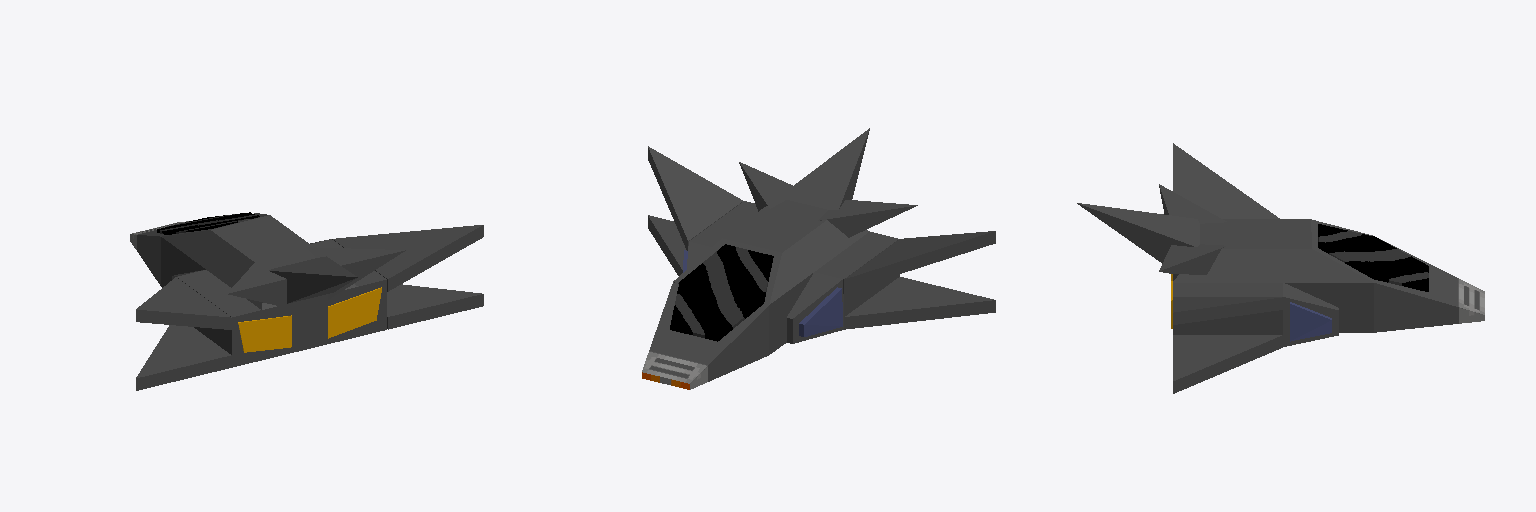
3 renders of one model, left to right at view 1: azimuth 30°, elevation 25°; view 2: azimuth 150°, elevation 25°; view 3: azimuth 270°, elevation 25°, orthographic.
Parts seen in each view (by area): view 1: основа-верх, крыло2-верхнее, основа, крыло1, крыло1-верхнее, предкрыльник1, крыло2, хвост, крыло-хвоста1, крыло-хвоста2, фара2, фара1 (+2 smaller); view 2: основа-верх, нос корабля, крыло1, крыло2-верхнее, крыло1-верхнее, стекло1, стекло2, хвост, предкрыльник1, крыло-хвоста1, часть предкрыльника1, часть части предкрыльника1 (+4 smaller); view 3: основа-верх, нос корабля, крыло2, предкрыльник2, крыло1-верхнее, хвост, основа, крыло2-верхнее, стекло1, стекло2, крыло-хвоста2, часть предкрыльника2 (+2 smaller).
Part boxes in pixels (bbox=[...]): основа-верх: bbox=[162, 213, 357, 309]; крыло2-верхнее: bbox=[332, 225, 483, 291]; основа: bbox=[161, 213, 357, 359]; крыло1: bbox=[136, 325, 231, 390]; крыло1-верхнее: bbox=[136, 277, 231, 329]; предкрыльник1: bbox=[177, 270, 261, 367]; крыло2: bbox=[387, 284, 483, 329]; хвост: bbox=[269, 256, 357, 303]; крыло-хвоста1: bbox=[227, 259, 291, 308]; крыло-хвоста2: bbox=[306, 247, 405, 299]; фара2: bbox=[328, 287, 381, 338]; фара1: bbox=[238, 315, 291, 352]; основа-верх: bbox=[673, 200, 869, 304]; нос корабля: bbox=[642, 282, 768, 389]; крыло1: bbox=[844, 277, 995, 329]; крыло2-верхнее: bbox=[648, 146, 742, 250]; крыло1-верхнее: bbox=[844, 231, 995, 291]; стекло1: bbox=[670, 281, 763, 341]; стекло2: bbox=[681, 244, 773, 302]; хвост: bbox=[780, 128, 869, 209]; предкрыльник1: bbox=[815, 232, 899, 316]; крыло-хвоста1: bbox=[818, 200, 917, 237]; часть предкрыльника1: bbox=[787, 272, 843, 343]; часть части предкрыльника1: bbox=[799, 287, 842, 336]; основа-верх: bbox=[1173, 219, 1373, 282]; нос корабля: bbox=[1374, 239, 1484, 332]; крыло2: bbox=[1173, 335, 1282, 393]; предкрыльник2: bbox=[1173, 283, 1282, 334]; крыло1-верхнее: bbox=[1173, 143, 1279, 218]; хвост: bbox=[1077, 203, 1199, 263]; основа: bbox=[1285, 283, 1373, 332]; крыло2-верхнее: bbox=[1173, 297, 1282, 324]; стекло1: bbox=[1374, 236, 1428, 291]; стекло2: bbox=[1318, 224, 1373, 278]; крыло-хвоста2: bbox=[1159, 244, 1225, 274]; часть предкрыльника2: bbox=[1283, 283, 1338, 346].
Size of the model in its own units: 3.62 by 1.06 by 3.69.
4 materials, 4 textured.